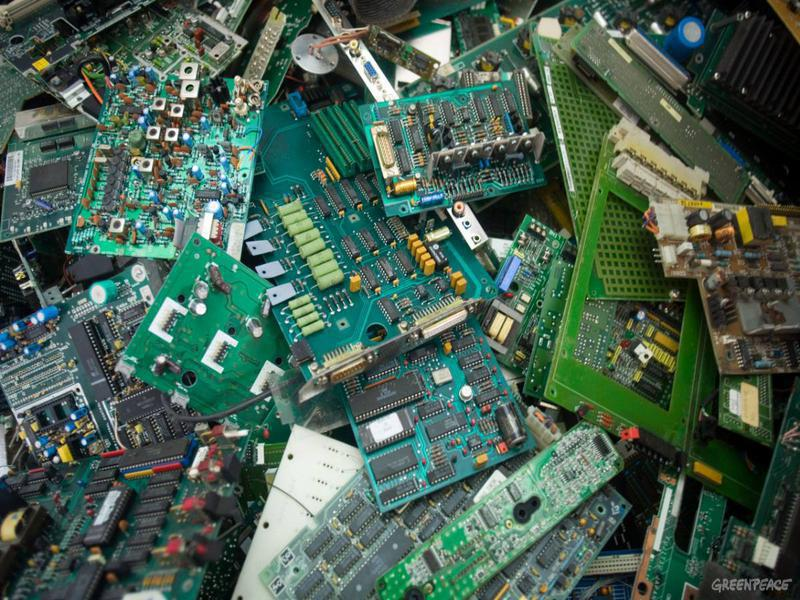circuit_board: (236, 173, 506, 390), (1, 424, 253, 600), (328, 321, 550, 516), (67, 55, 262, 265), (113, 232, 287, 424), (626, 192, 800, 381), (343, 82, 550, 219), (479, 209, 576, 405), (1, 118, 100, 248)
